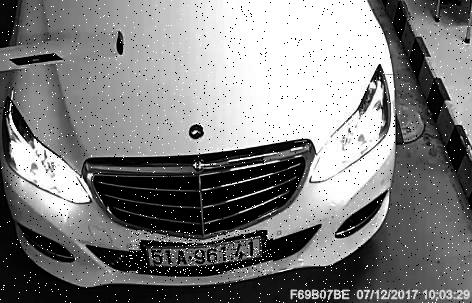License-plate: (130, 232, 274, 275)
